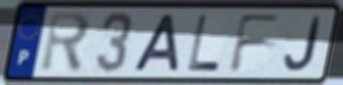3: (94, 9, 136, 76)
A: (130, 13, 181, 74)
F: (227, 12, 284, 75)
J: (282, 15, 324, 73)
L: (185, 13, 222, 74)
R: (38, 10, 94, 75)
